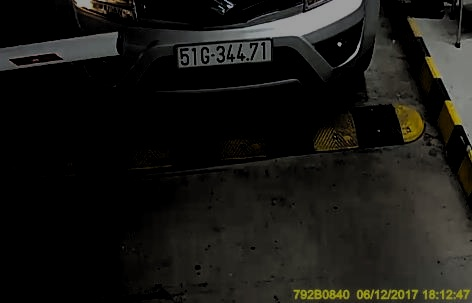plate: (172, 37, 277, 66)
